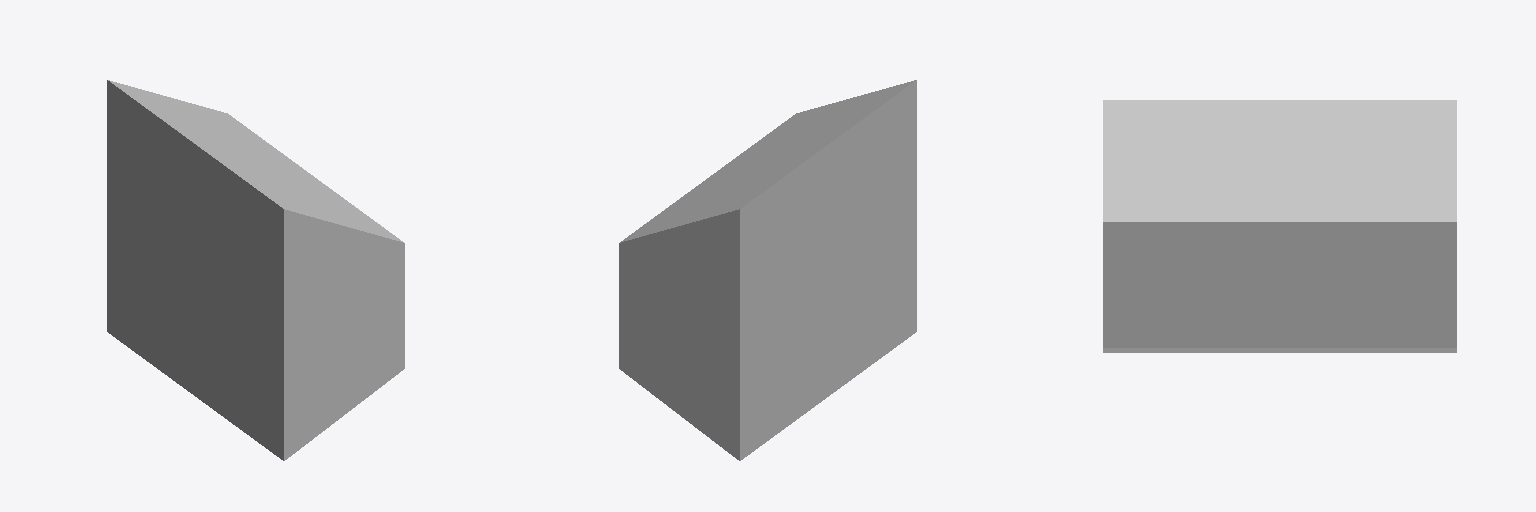
Rendered from trapez_peg.obj.
The picture shows the model from 3 angles: view 1: azimuth 30°, elevation 25°; view 2: azimuth 150°, elevation 25°; view 3: azimuth 270°, elevation 25°; orthographic projection.
Size of the model in its own units: 0.03 by 0.06 by 0.0762.